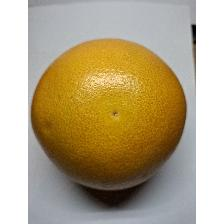Pampelmuse: (30, 35, 190, 193)
